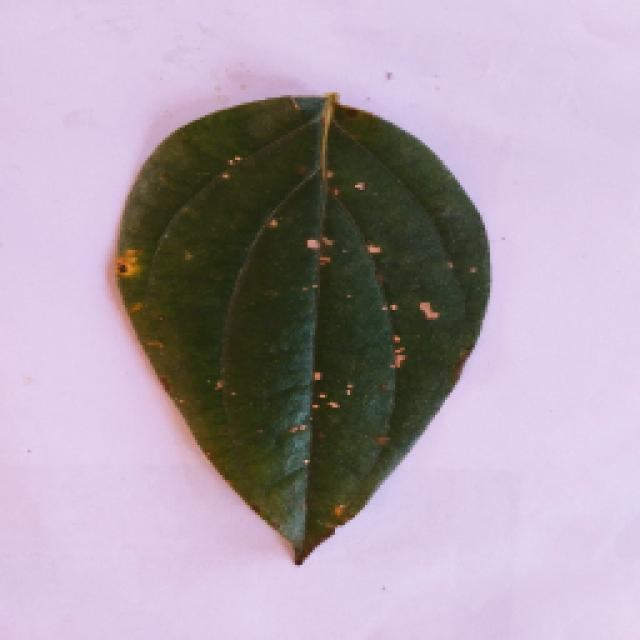pollu-disease: (88, 90, 510, 562)
